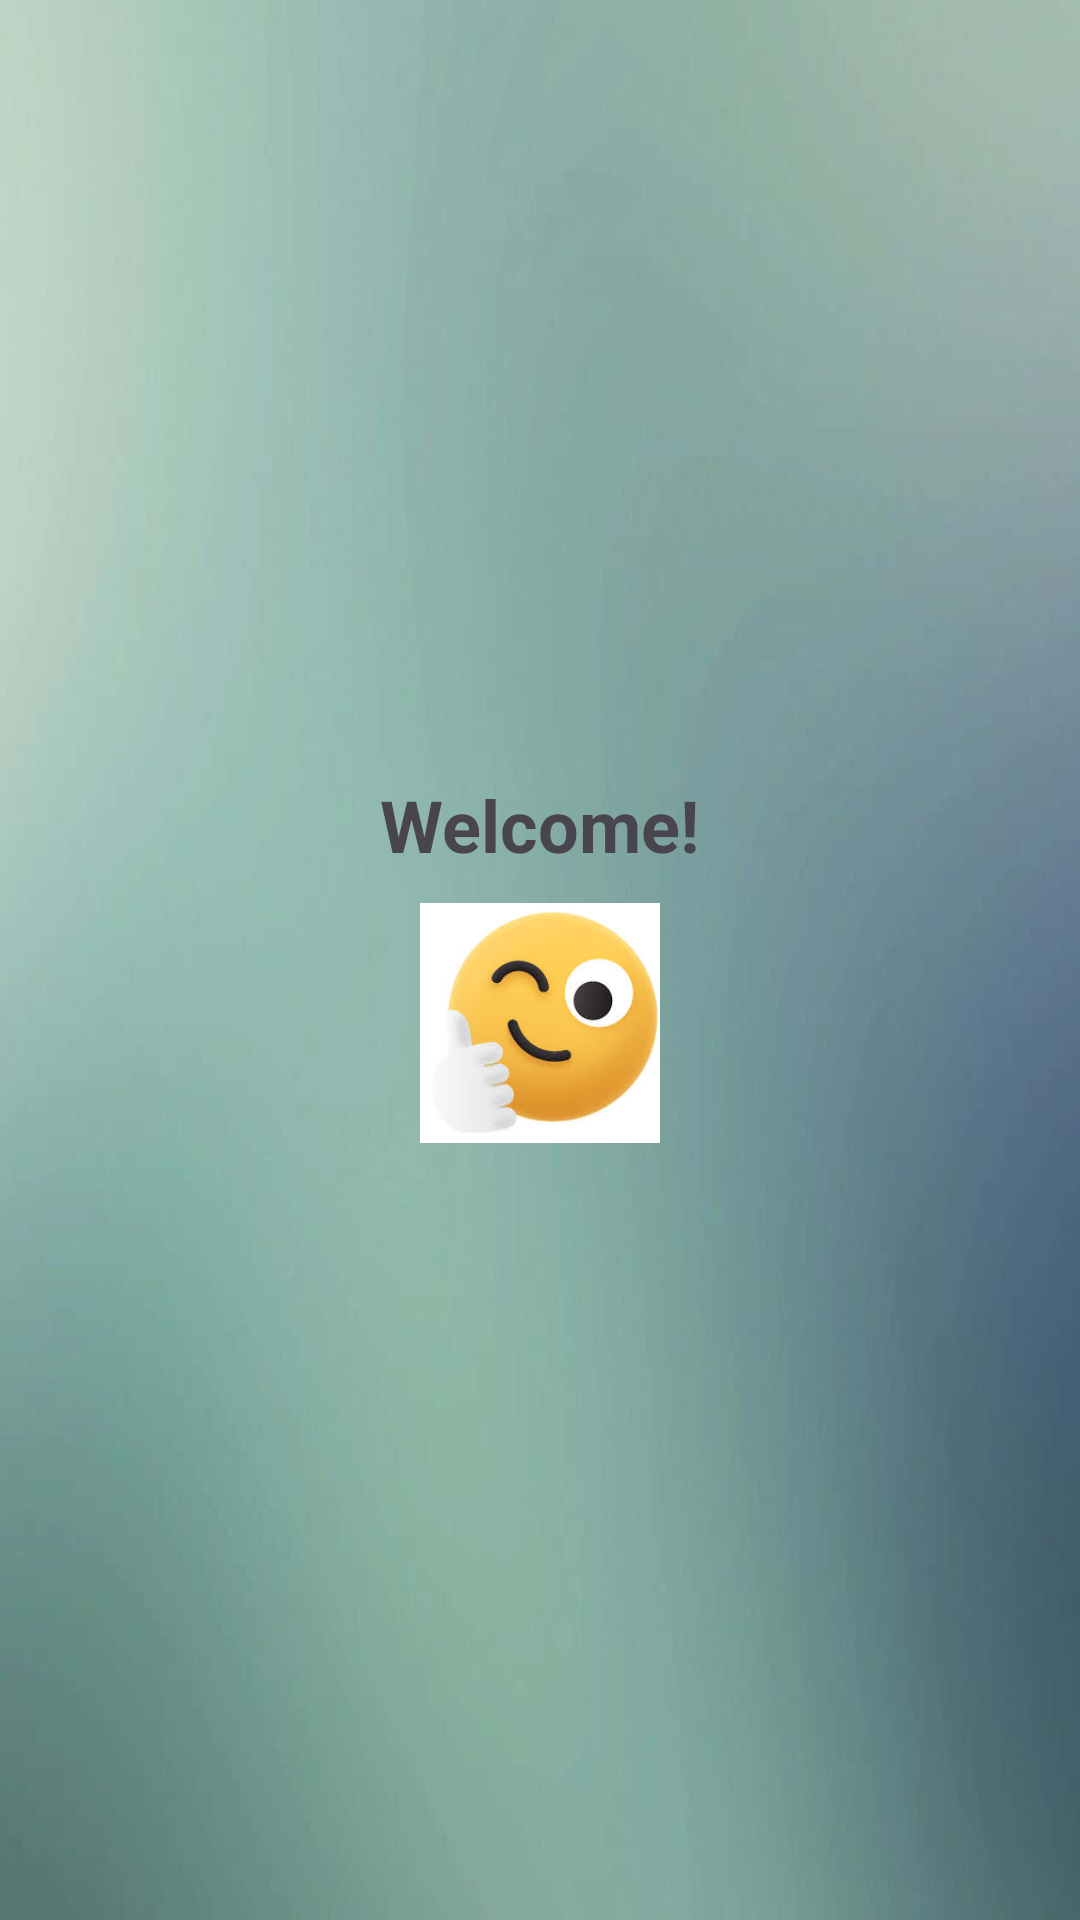

Where icons sit on this 1080 × 1920 app screen, as (x1, y1, x2, y2):
smile: (420, 903, 660, 1143)
